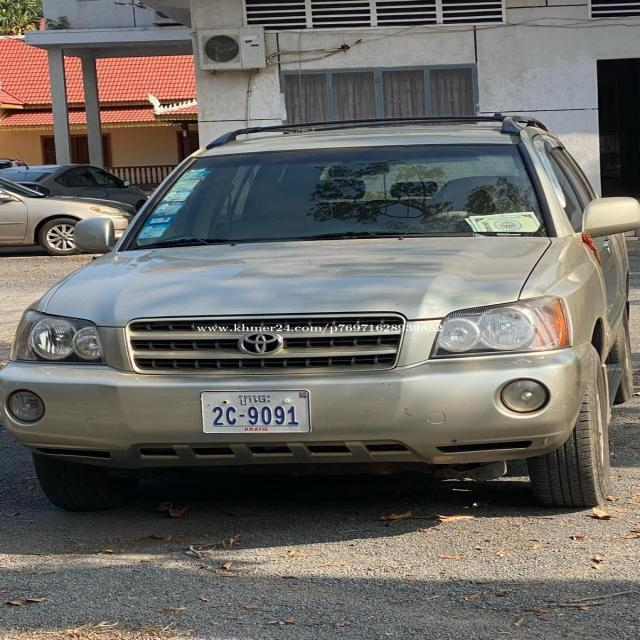Kratie: (238, 395, 272, 406)
